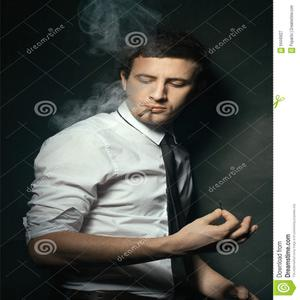cigarette: (140, 107, 153, 119)
